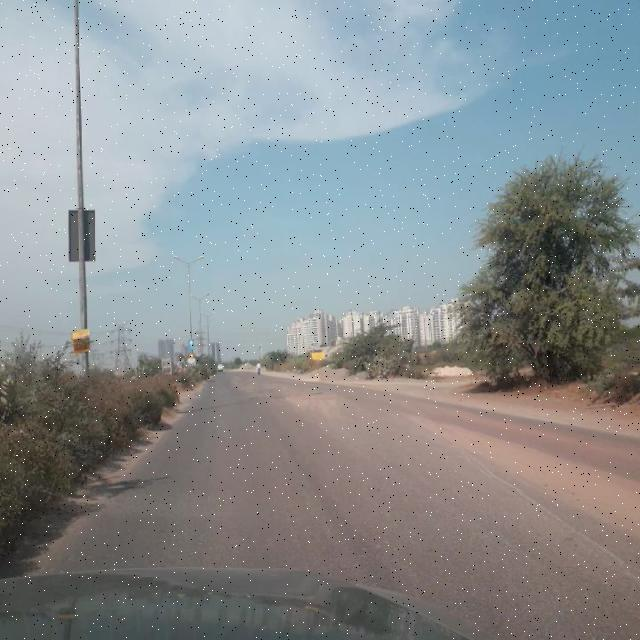D00: (424, 411, 638, 577)
D40: (282, 379, 346, 417)
